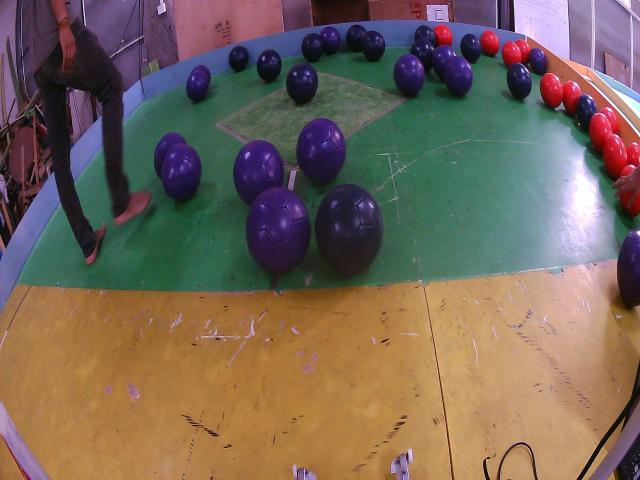jambhalya: (245, 187, 311, 273), (296, 118, 346, 183), (234, 140, 284, 205), (161, 142, 201, 200), (154, 132, 186, 178), (394, 53, 425, 97), (444, 57, 472, 97), (576, 93, 598, 132), (431, 45, 456, 79), (186, 70, 209, 102), (320, 27, 341, 55), (529, 47, 548, 75), (192, 65, 211, 82)
kaalyya: (315, 183, 384, 275), (618, 230, 640, 307), (286, 63, 318, 103), (506, 62, 531, 100), (256, 48, 281, 82), (410, 37, 434, 72), (361, 30, 385, 62), (301, 33, 324, 63), (460, 33, 481, 63), (229, 45, 249, 72), (346, 25, 366, 52), (414, 25, 436, 47)
